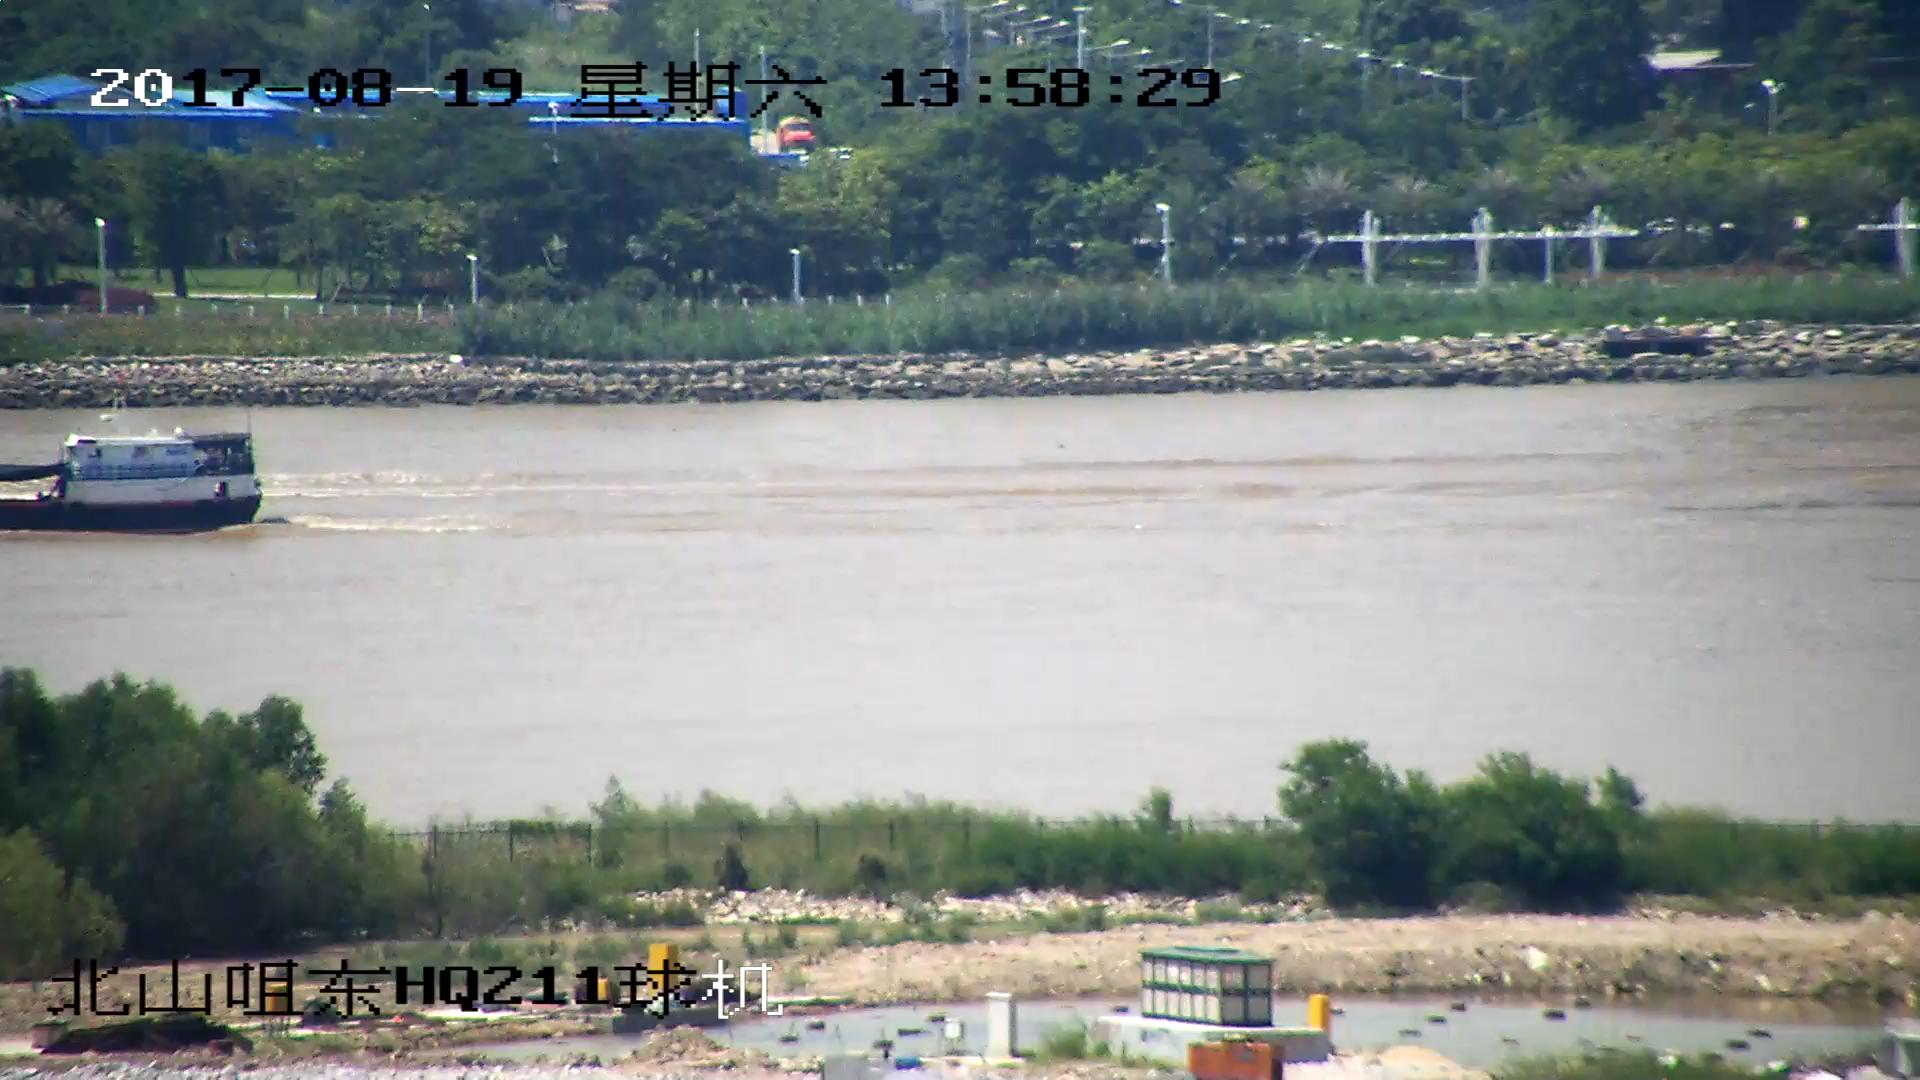fishing boat: (1, 430, 264, 533)
